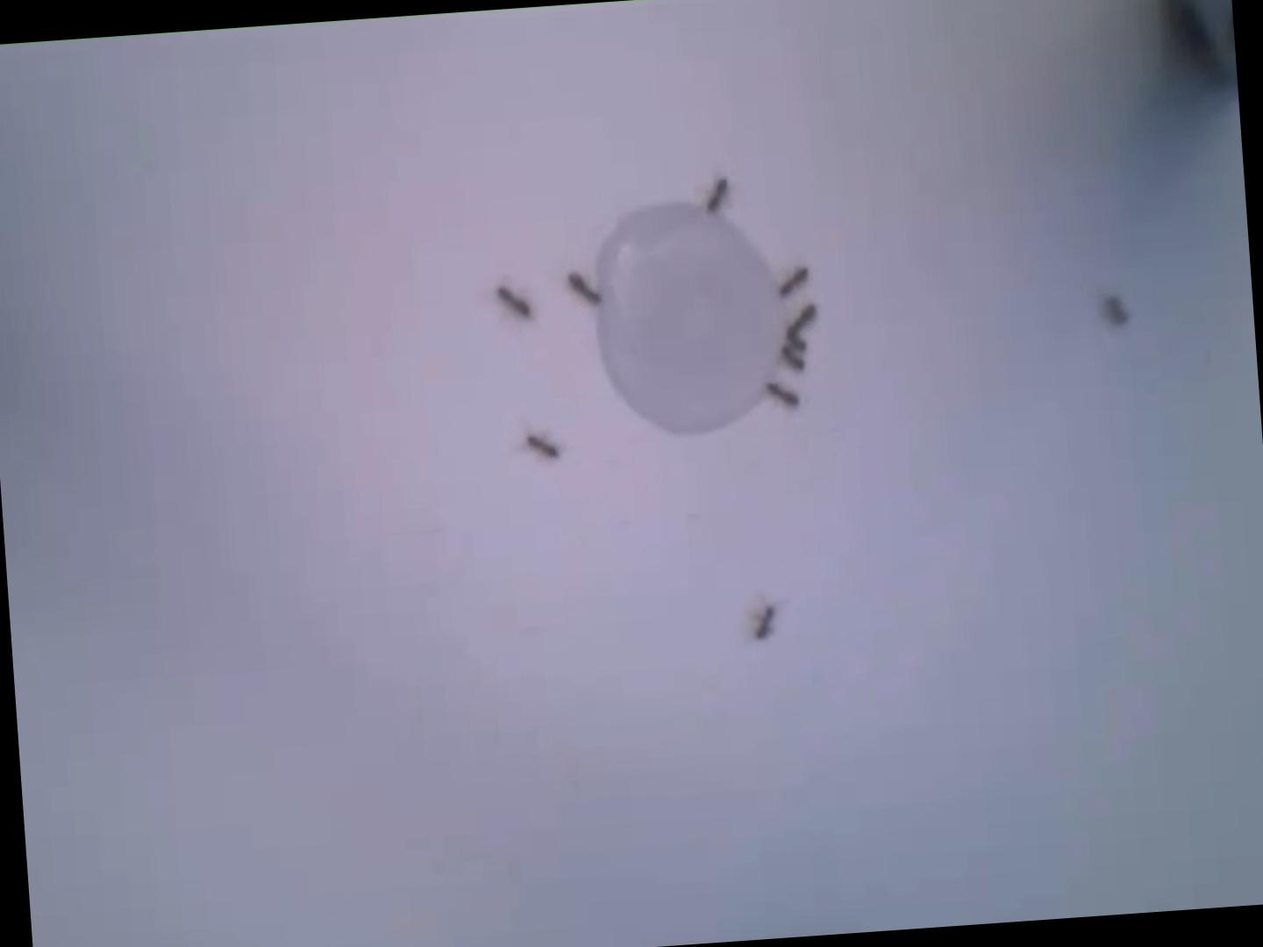Ant: (492, 281, 530, 323), (562, 269, 600, 308), (774, 263, 810, 298), (521, 430, 557, 463), (701, 175, 730, 215), (762, 380, 797, 412), (747, 603, 775, 642), (788, 301, 818, 335), (1098, 295, 1127, 329), (780, 342, 805, 376), (780, 326, 808, 356)
